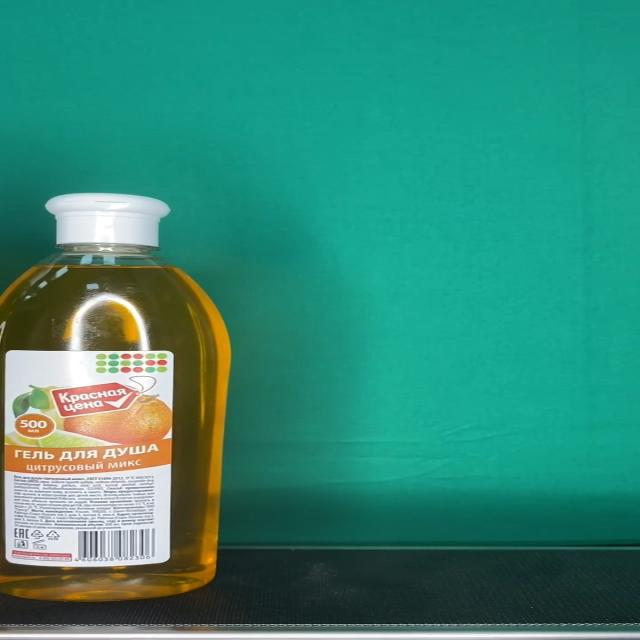Bottle: (0, 192, 231, 601)
Cap: (46, 193, 170, 245)
